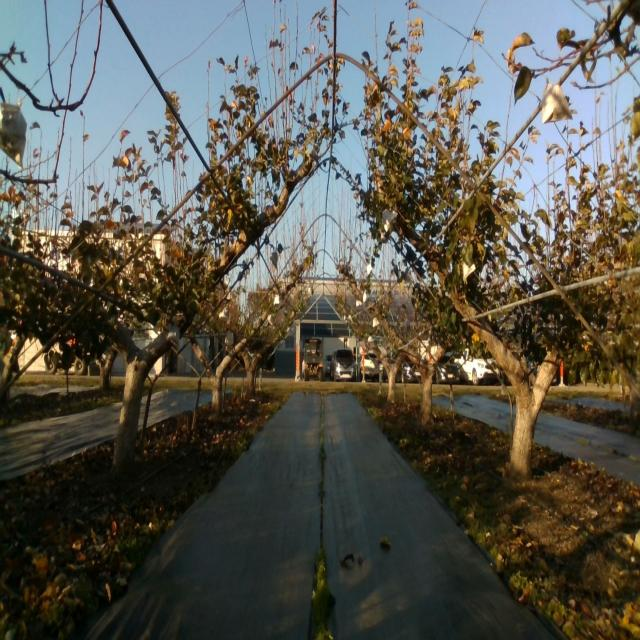pearbags: (0, 96, 28, 167), (539, 76, 575, 123), (382, 208, 398, 232), (167, 324, 180, 348)
